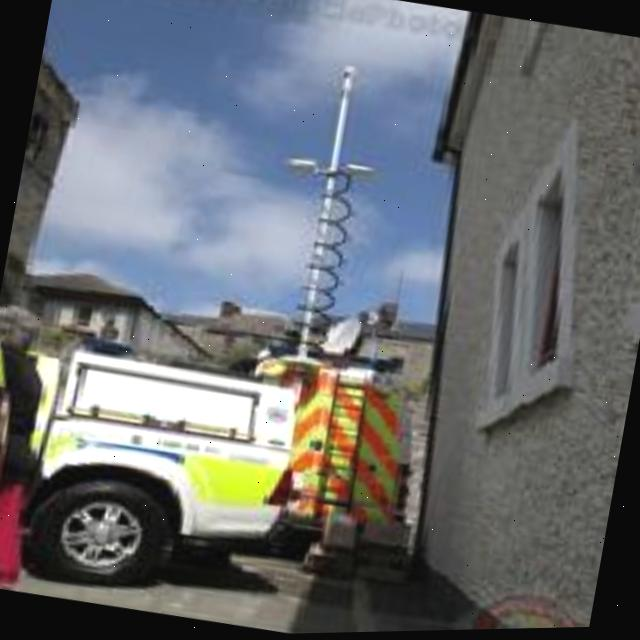emergency: (0, 313, 330, 596)
